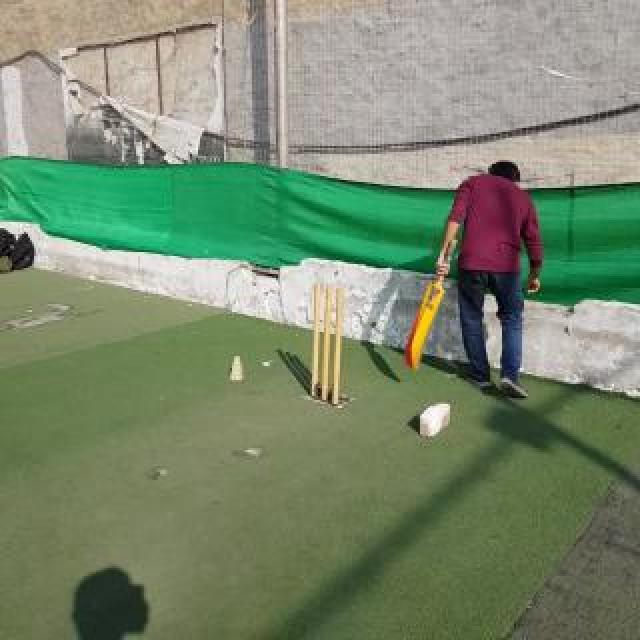bat: (404, 238, 458, 370)
